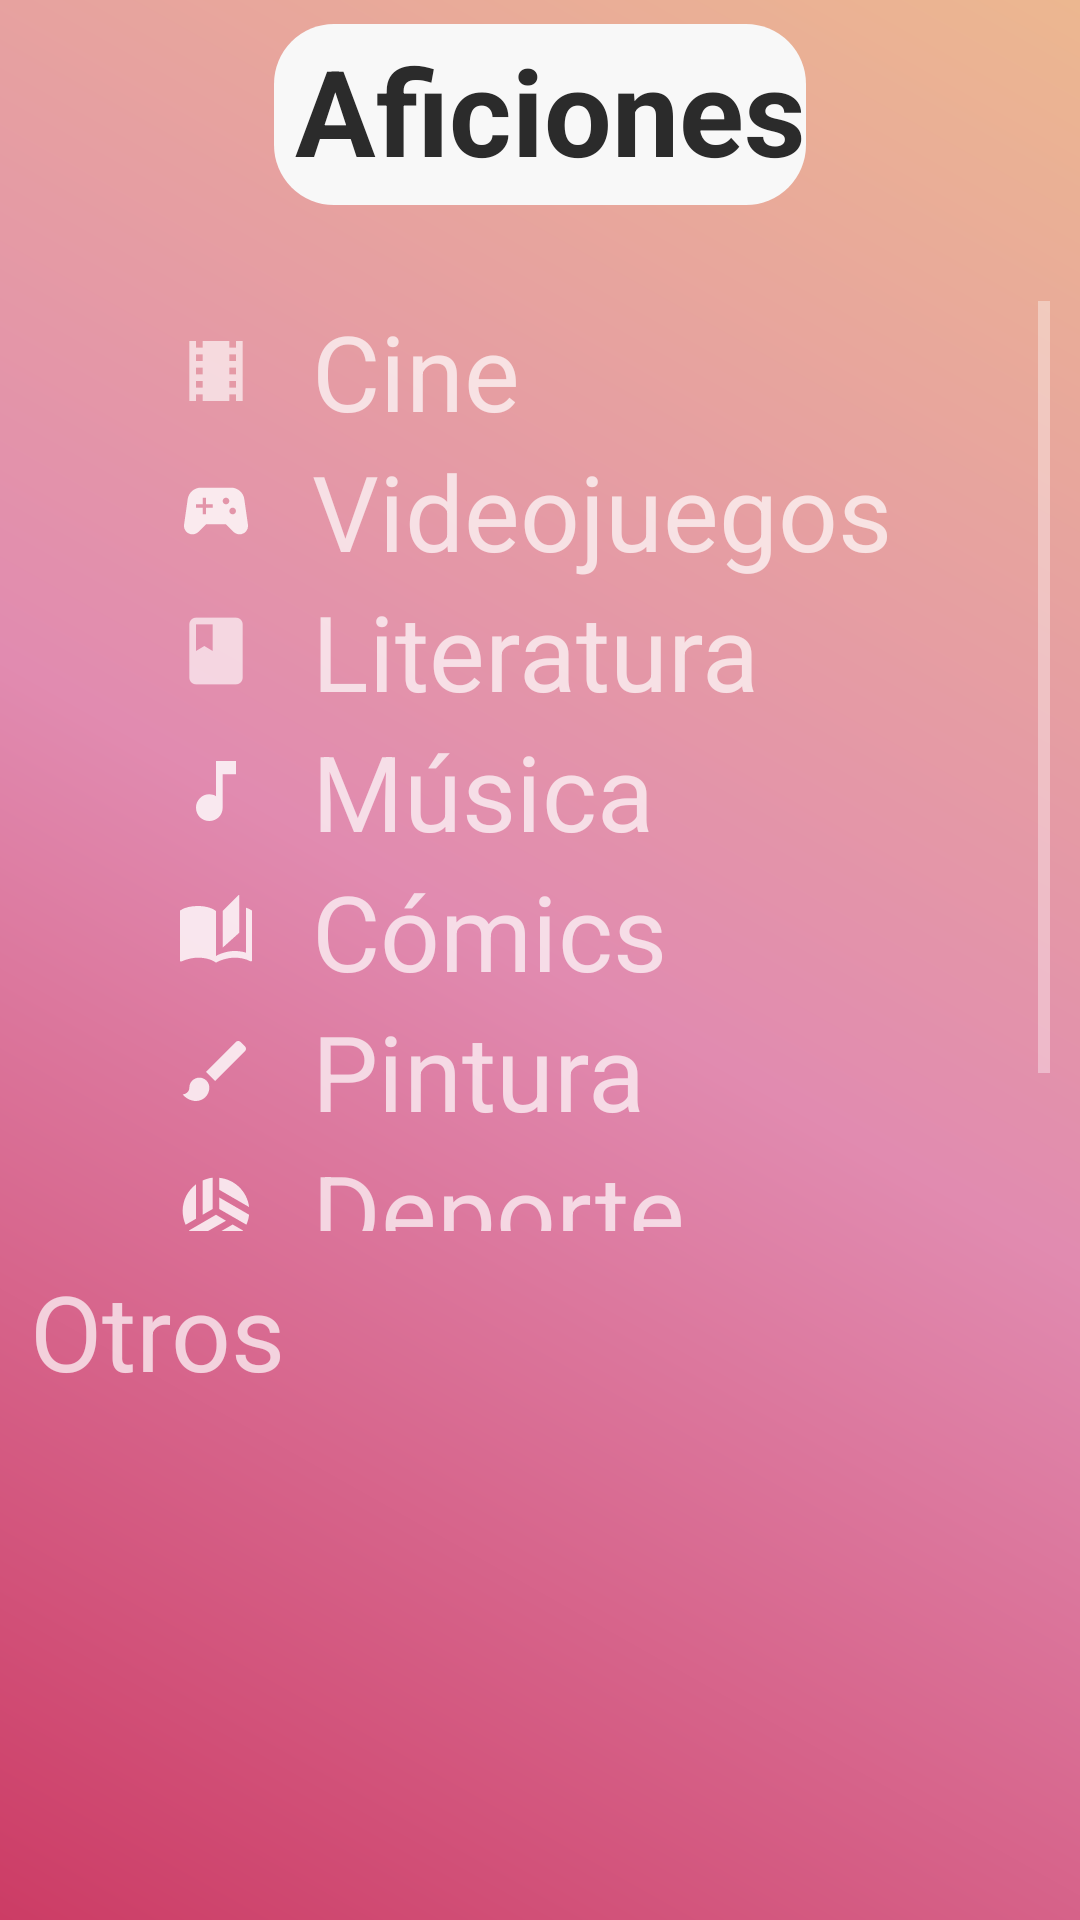

Icons on this 1080 x 1920 Android screen, each with its box as (x1, y1, x2, y2):
comic: (180, 895, 252, 963)
musica: (196, 761, 236, 821)
